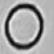no answer: (1, 1, 48, 54)
